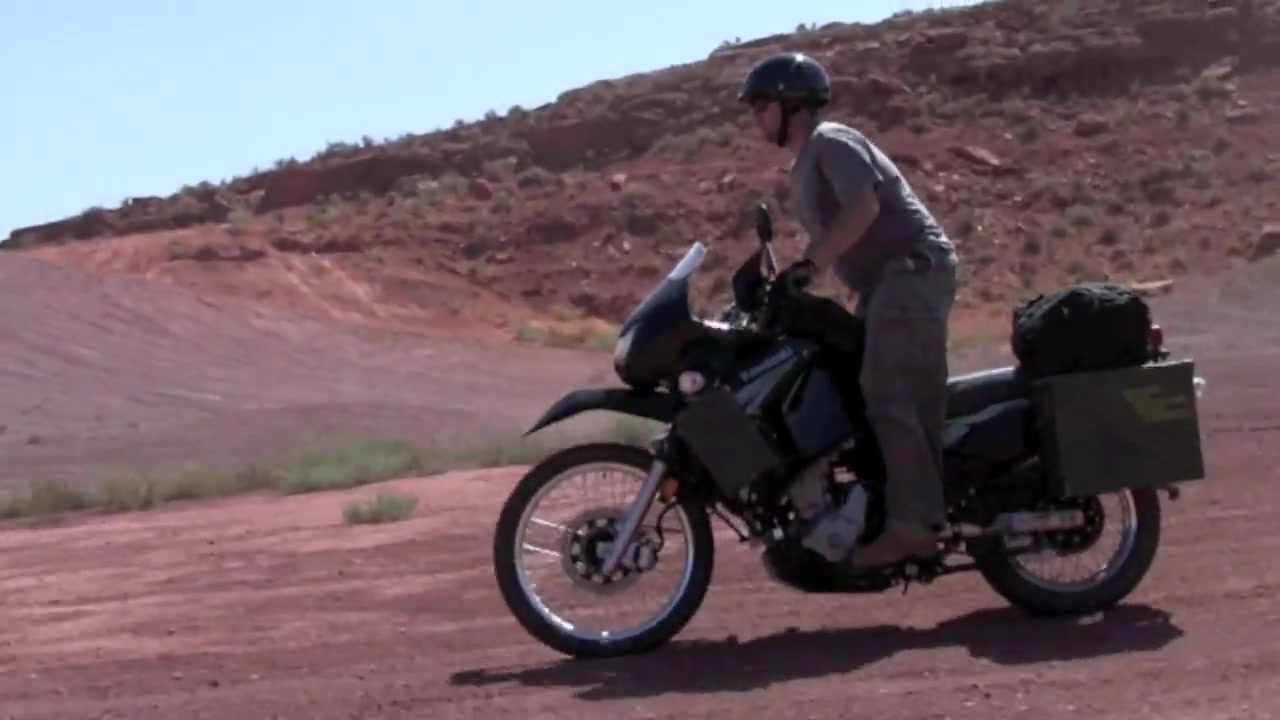motorbike: (490, 203, 1211, 659)
